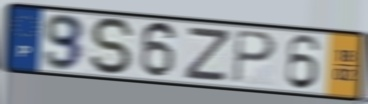6: (140, 19, 183, 80), (284, 33, 322, 92)
9: (42, 13, 88, 73)
P: (231, 28, 278, 85)
S: (88, 16, 138, 77)
Z: (182, 27, 234, 84)
